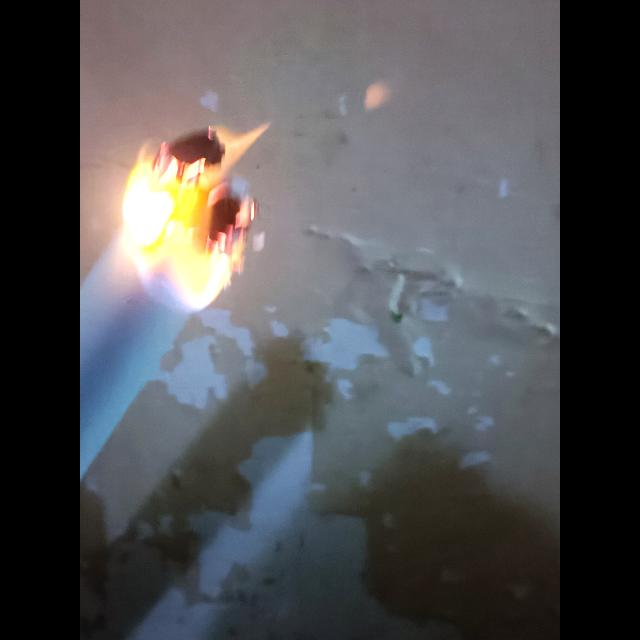fire: (80, 125, 267, 400)
